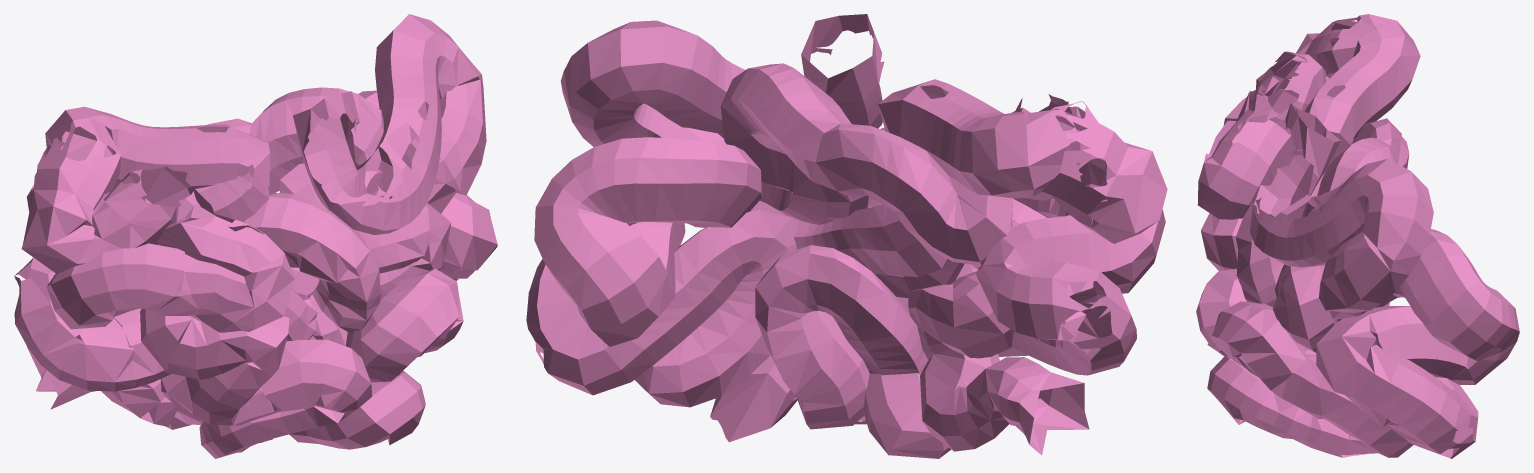
The model's file is small int.gltf.
The picture shows the model from 3 angles, left to right: view 1: azimuth 30°, elevation 25°; view 2: azimuth 150°, elevation 25°; view 3: azimuth 270°, elevation 25°; orthographic projection. The views are drawn at different scales.
Visible parts, largest first — view 1: node_id32.006; view 2: node_id32.006; view 3: node_id32.006.
Part boxes in pixels (bbox=[...]): node_id32.006: bbox=[14, 14, 497, 458]; node_id32.006: bbox=[526, 14, 1167, 458]; node_id32.006: bbox=[1196, 14, 1519, 458].
Size of the model in its own units: 1.77 by 1.21 by 1.1.
